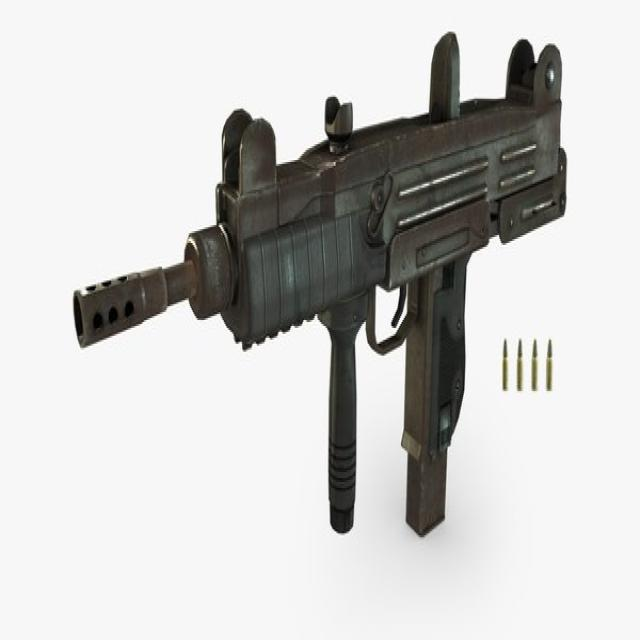SMG: (71, 34, 569, 539)
